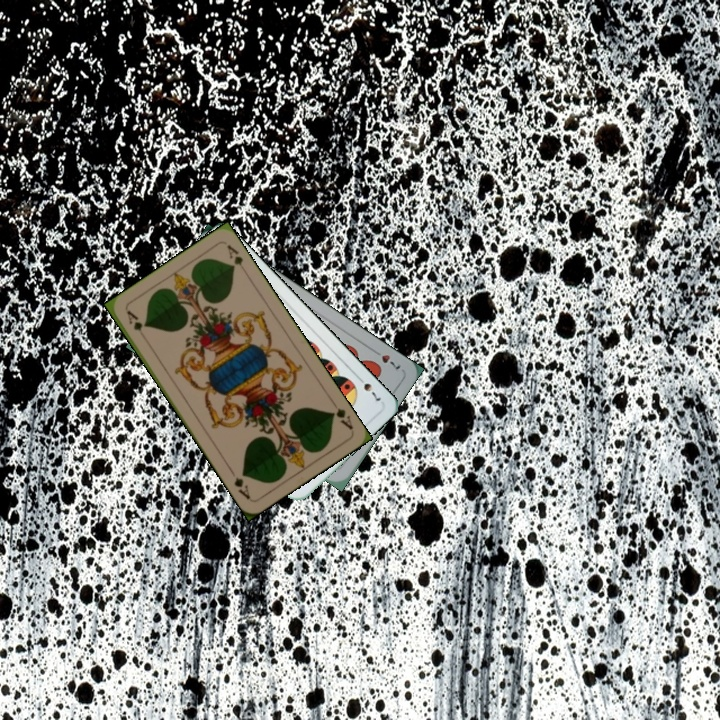GA: (123, 306, 148, 343), (326, 404, 356, 432)
H7: (368, 345, 403, 372)
S7: (353, 372, 384, 404)
